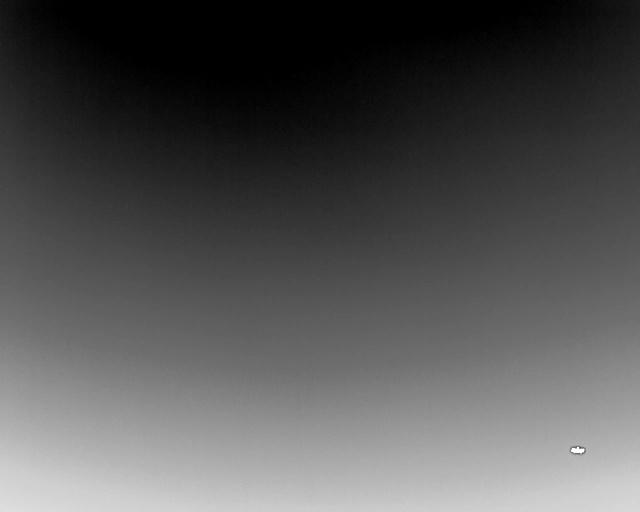fpv-drone: (570, 446, 585, 455)
